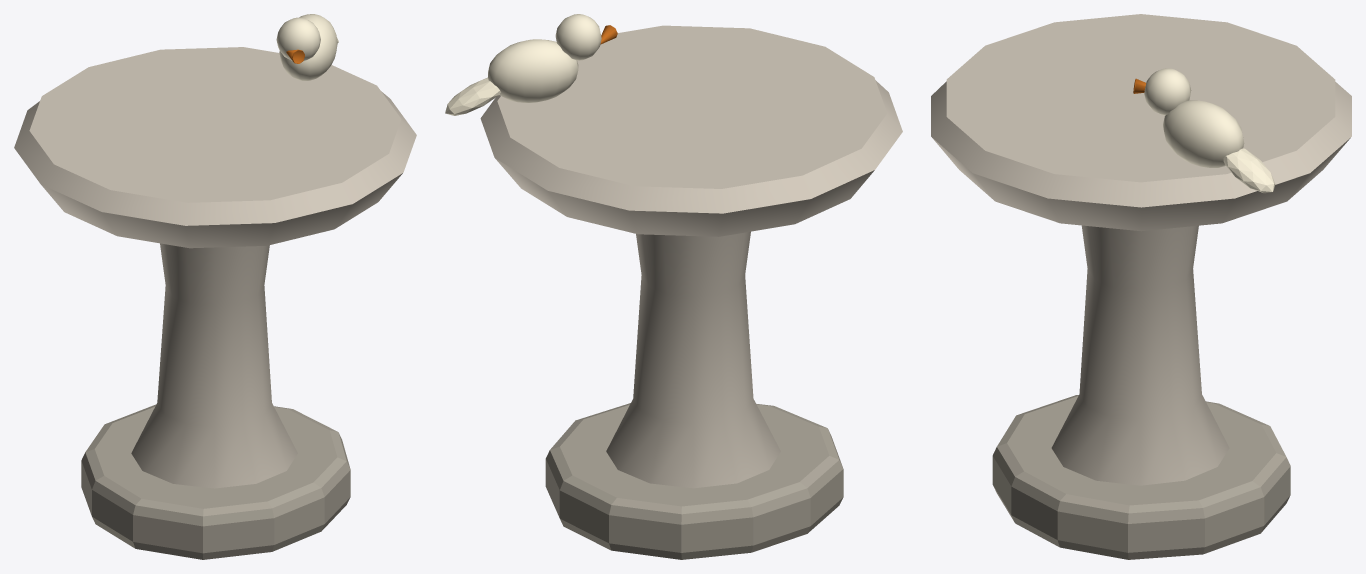
Rendered from prop_birdbath.glb.
3 renders of one model, left to right at view 1: azimuth 30°, elevation 25°; view 2: azimuth 150°, elevation 25°; view 3: azimuth 270°, elevation 25°, orthographic. The views are drawn at different scales.
Visible parts, largest first — view 1: birdbath_bowl, birdbath_stem, birdbath_base, birdbath_dove_body, birdbath_dove_head; view 2: birdbath_bowl, birdbath_stem, birdbath_base, birdbath_dove_body, birdbath_dove_head, birdbath_dove_tail; view 3: birdbath_bowl, birdbath_stem, birdbath_base, birdbath_dove_body, birdbath_dove_head, birdbath_dove_tail.
Part boxes in pixels (bbox=[...]): birdbath_bowl: bbox=[14, 47, 416, 248]; birdbath_stem: bbox=[131, 243, 297, 488]; birdbath_base: bbox=[81, 404, 350, 559]; birdbath_dove_body: bbox=[279, 14, 337, 80]; birdbath_dove_head: bbox=[276, 17, 320, 61]; birdbath_bowl: bbox=[480, 25, 902, 236]; birdbath_stem: bbox=[606, 231, 780, 488]; birdbath_base: bbox=[545, 403, 843, 559]; birdbath_dove_body: bbox=[488, 39, 578, 102]; birdbath_dove_head: bbox=[555, 14, 601, 60]; birdbath_dove_tail: bbox=[445, 77, 500, 115]; birdbath_bowl: bbox=[931, 14, 1351, 231]; birdbath_stem: bbox=[1051, 225, 1229, 485]; birdbath_base: bbox=[992, 395, 1290, 559]; birdbath_dove_body: bbox=[1163, 100, 1244, 167]; birdbath_dove_head: bbox=[1144, 68, 1191, 115]; birdbath_dove_tail: bbox=[1223, 148, 1275, 193].
Bounding box in the file's own units: 0.8749 × 1.07 × 0.8488.
